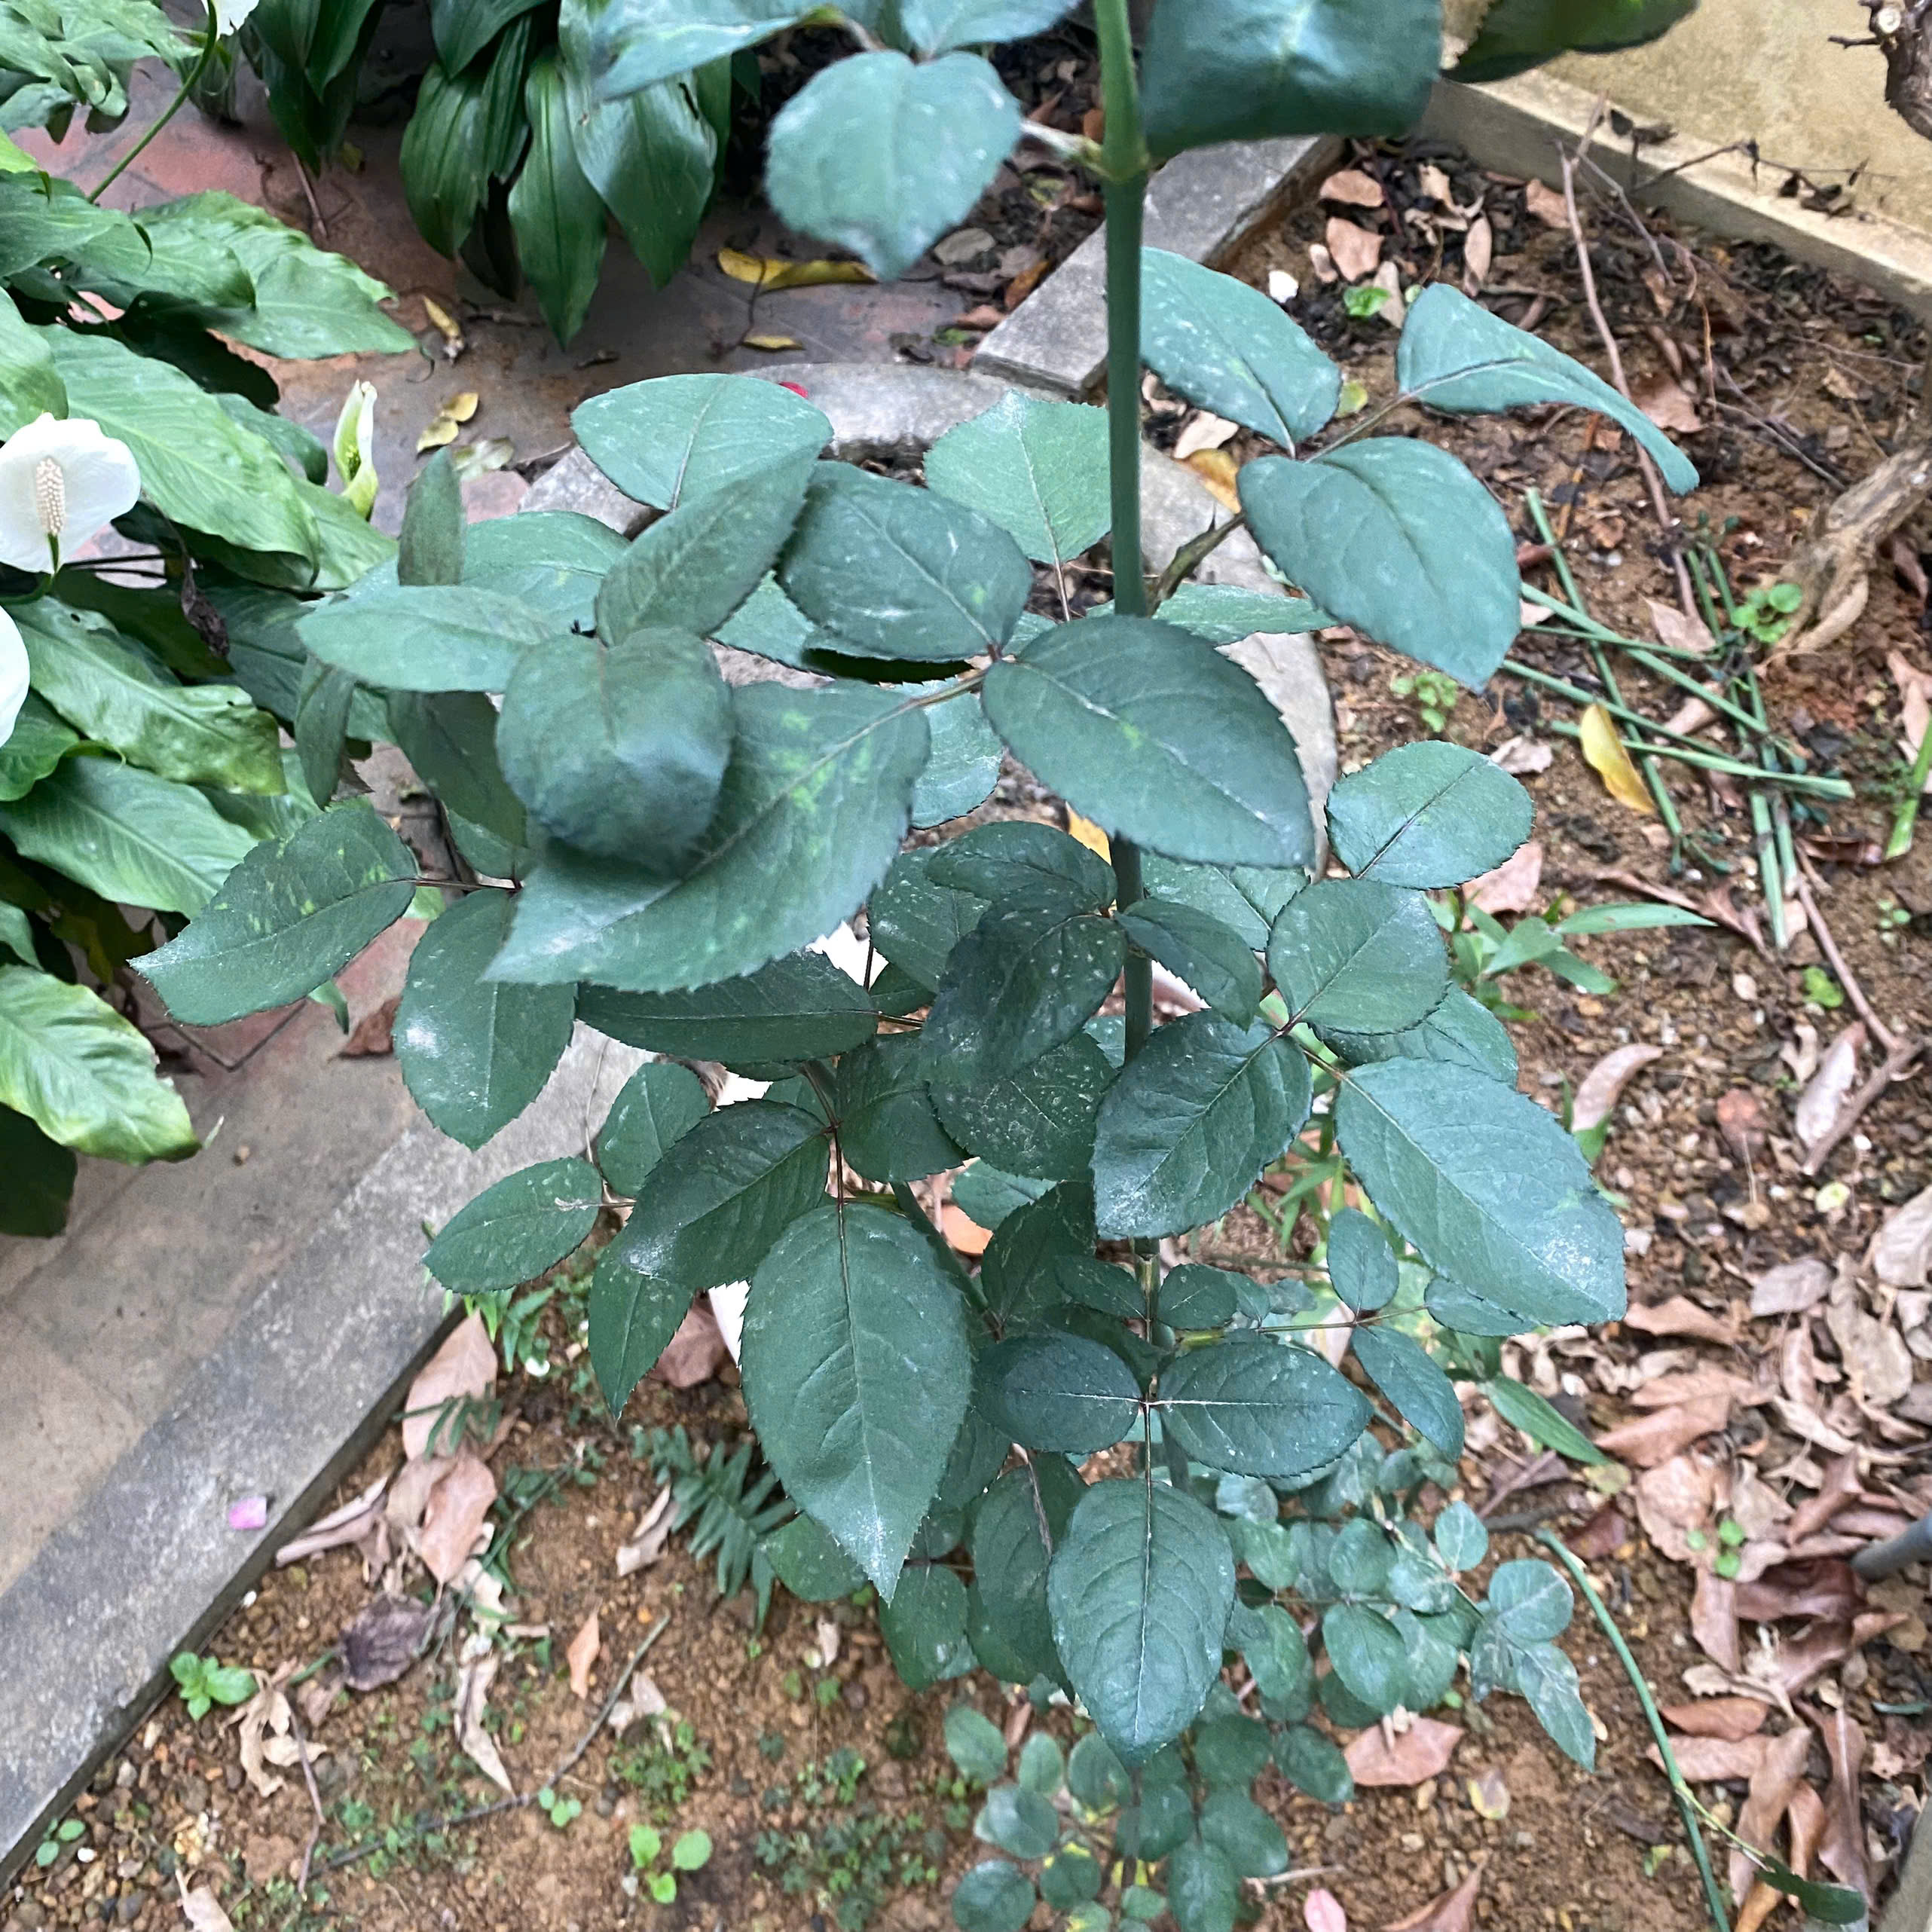hoa_hong_do: (350, 387, 1622, 1921)
